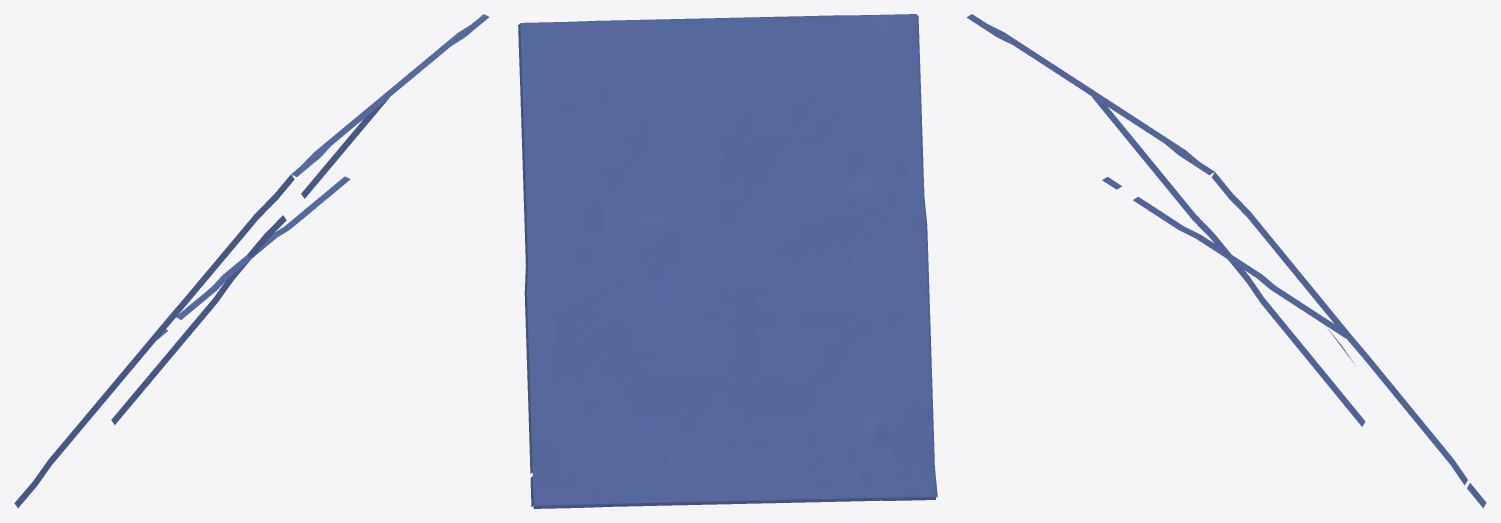
3 views of the same model, side by side, from view 1: azimuth 30°, elevation 25°; view 2: azimuth 150°, elevation 25°; view 3: azimuth 270°, elevation 25° (orthographic). The views are drawn at different scales.
Bounding box in the file's own units: 158840 × 129123 × 148151.
1 material, 1 textured.
